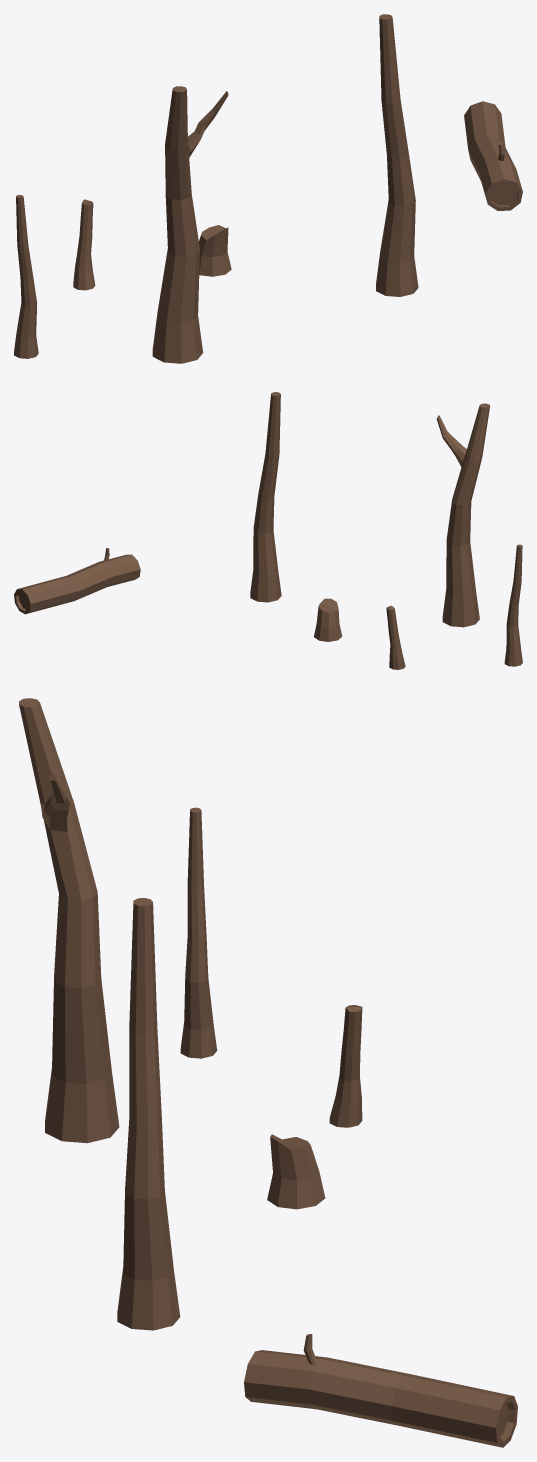
File: trees.fbx
3 renders of one model, top to bottom at view 1: azimuth 30°, elevation 25°; view 2: azimuth 150°, elevation 25°; view 3: azimuth 270°, elevation 25°, orthographic. The views are drawn at different scales.
Parts seen in each view (by area): view 1: Cylinder.009, Cylinder.010, Cylinder.011, Cylinder.012, Cylinder.005, Cylinder.007; view 2: Cylinder.009, Cylinder.010, Cylinder.011, Cylinder.012, Cylinder.005, Cylinder.007; view 3: Cylinder.009, Cylinder.010, Cylinder.011, Cylinder.012, Cylinder.005, Cylinder.007.
Boxes of the visible parts, x1,y1,x2,y2 form: Cylinder.009: [152, 86, 228, 363]; Cylinder.010: [376, 14, 418, 296]; Cylinder.011: [464, 101, 522, 210]; Cylinder.012: [14, 195, 38, 358]; Cylinder.005: [199, 225, 231, 276]; Cylinder.007: [73, 199, 95, 290]; Cylinder.009: [436, 403, 489, 627]; Cylinder.010: [250, 392, 281, 602]; Cylinder.011: [14, 548, 140, 614]; Cylinder.012: [504, 544, 522, 666]; Cylinder.005: [314, 598, 342, 641]; Cylinder.007: [386, 605, 405, 669]; Cylinder.009: [19, 698, 119, 1143]; Cylinder.010: [117, 898, 180, 1330]; Cylinder.011: [244, 1334, 517, 1447]; Cylinder.012: [180, 807, 217, 1058]; Cylinder.005: [267, 1134, 325, 1209]; Cylinder.007: [329, 1005, 362, 1127].
Size of the model in its own units: 959 by 454 by 479.
